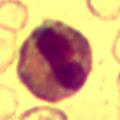monocyte: (16, 18, 94, 103)
